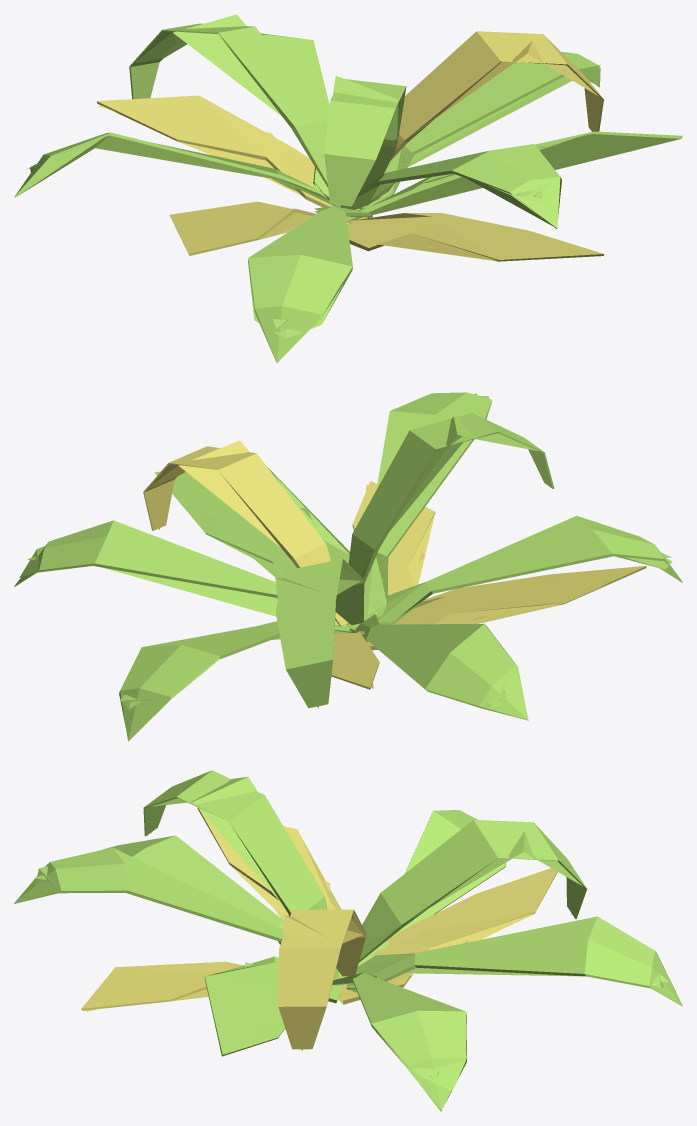
File: fern_prototype_LOD.fbx
The picture shows the model from 3 angles, top to bottom: view 1: azimuth 30°, elevation 25°; view 2: azimuth 150°, elevation 25°; view 3: azimuth 270°, elevation 25°; orthographic projection. The views are drawn at different scales.
Visible parts, largest first — view 1: fern_small0, fern_small1, fern_small2; view 2: fern_small0, fern_small1, fern_small2; view 3: fern_small0, fern_small1, fern_small2.
Boxes of the visible parts, <box> form: fern_small0: <box>14,23,682,363</box>; fern_small1: <box>30,30,666,338</box>; fern_small2: <box>26,14,597,328</box>; fern_small0: <box>14,392,682,741</box>; fern_small1: <box>19,395,672,710</box>; fern_small2: <box>28,393,671,708</box>; fern_small0: <box>14,770,682,1111</box>; fern_small1: <box>35,780,663,1091</box>; fern_small2: <box>34,777,669,1079</box>.
Size of the model in its own units: 249 by 84.36 by 270.
